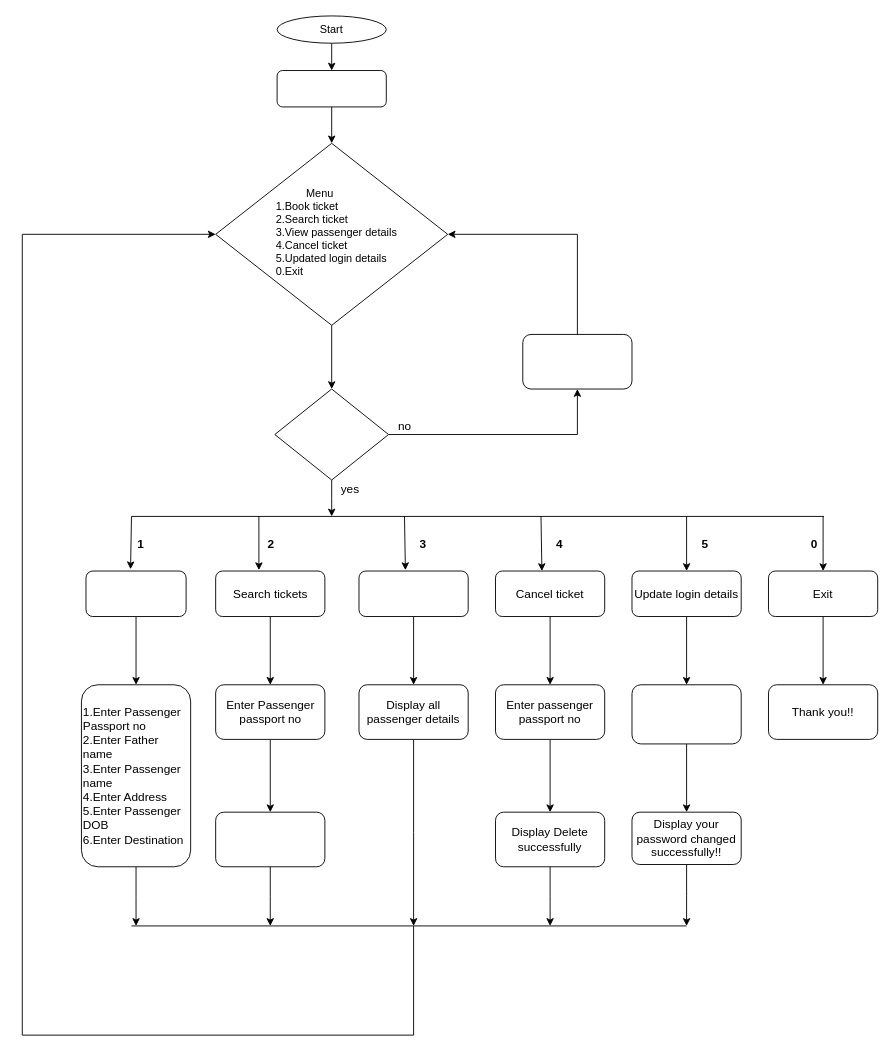
The diagram is 894 pixels wide and 1058 high, and some of its shapes have lost their labels. The shapes that lost their labels are listed below. From the top down, each one's box as (x1, y1, x2, y2) in pixels, then its label:
(276, 70, 386, 107): Login details
(522, 334, 632, 389): Wrong Choice!!
(274, 388, 389, 480): Enter Your choice?
(85, 570, 186, 617): Passenger details
(358, 570, 468, 617): View Passenger details
(631, 684, 741, 744): 1.Enter new username 2.Enter new password
(215, 811, 325, 867): Display Passenger detail
